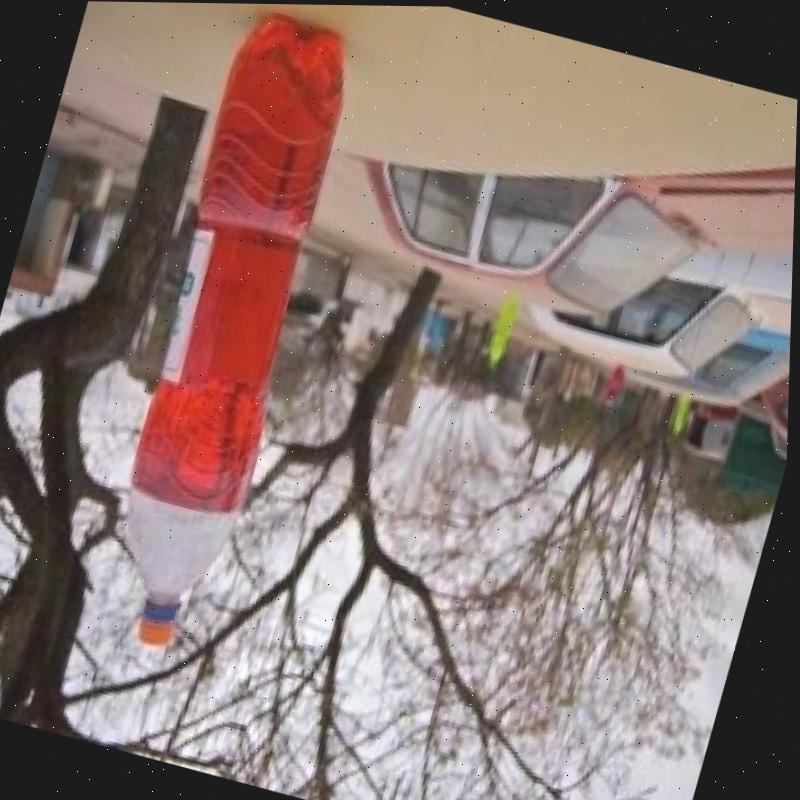botella: (78, 4, 379, 662)
